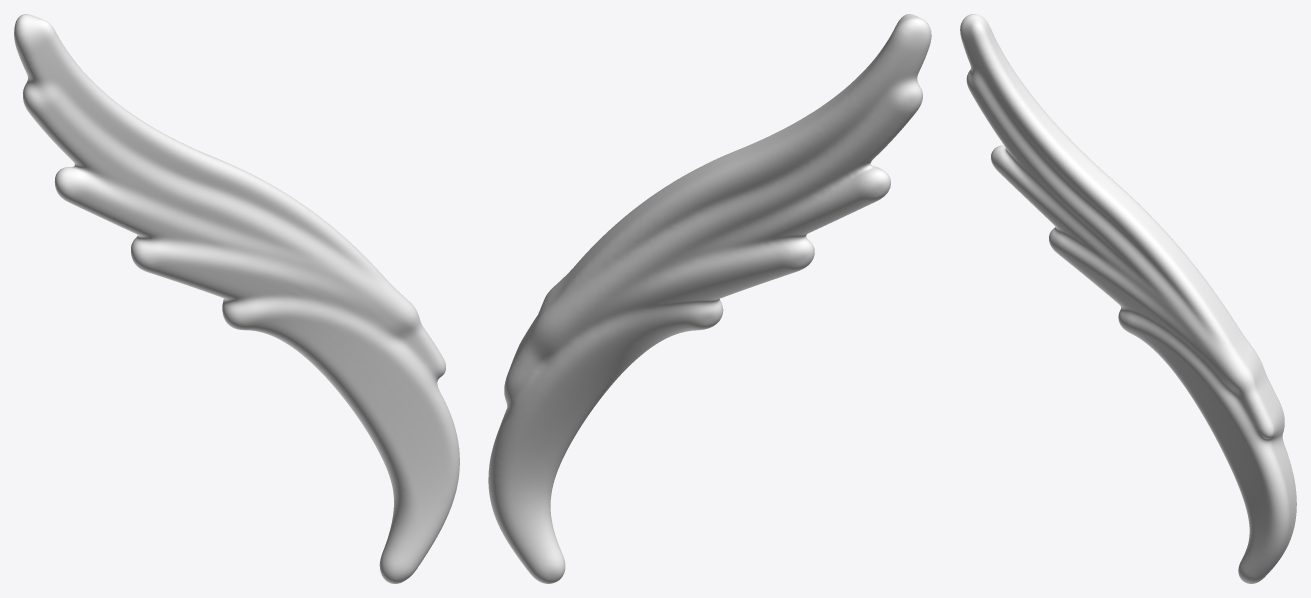
The model's file is callout leaf bottom.glb.
3 views of the same model, side by side, from view 1: azimuth 30°, elevation 25°; view 2: azimuth 150°, elevation 25°; view 3: azimuth 330°, elevation 25° (orthographic). The views are drawn at different scales.
Parts seen in each view (by area): view 1: Announcement Area; view 2: Announcement Area; view 3: Announcement Area.
Part boxes in pixels (bbox=[...]): Announcement Area: bbox=[14, 14, 459, 583]; Announcement Area: bbox=[488, 14, 931, 583]; Announcement Area: bbox=[960, 14, 1296, 583].
Size of the model in its own units: 56.51 by 81.14 by 9.65.
1 material, 1 textured.
